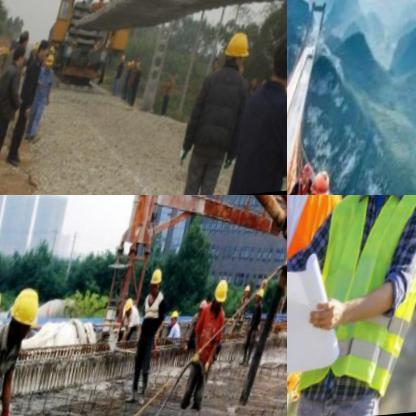helmet: (4, 282, 47, 349), (219, 31, 258, 84), (210, 279, 235, 320), (303, 170, 341, 195), (147, 265, 166, 301), (169, 309, 186, 335), (123, 296, 138, 322), (44, 53, 61, 75), (198, 299, 213, 323), (253, 290, 268, 314), (0, 288, 5, 320)
